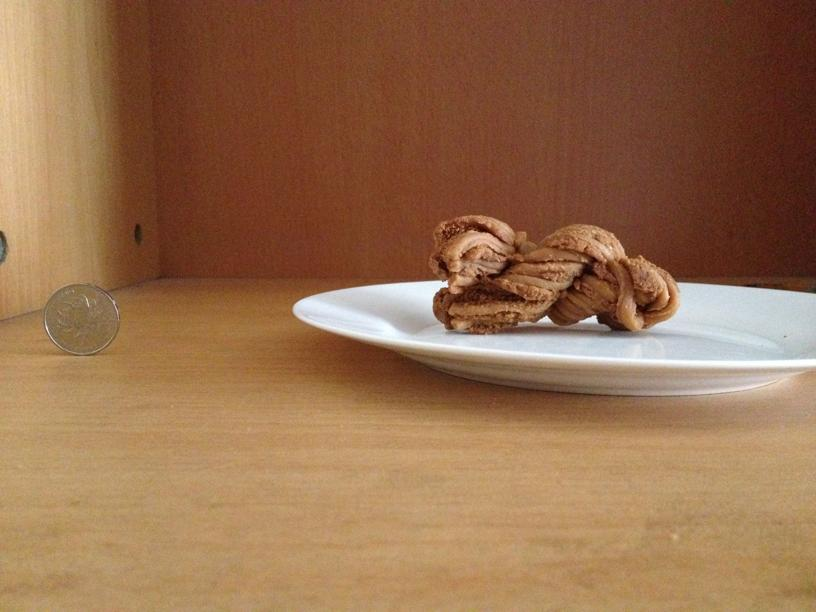coin: (43, 283, 120, 354)
fired_dough_twist: (429, 214, 678, 333)
